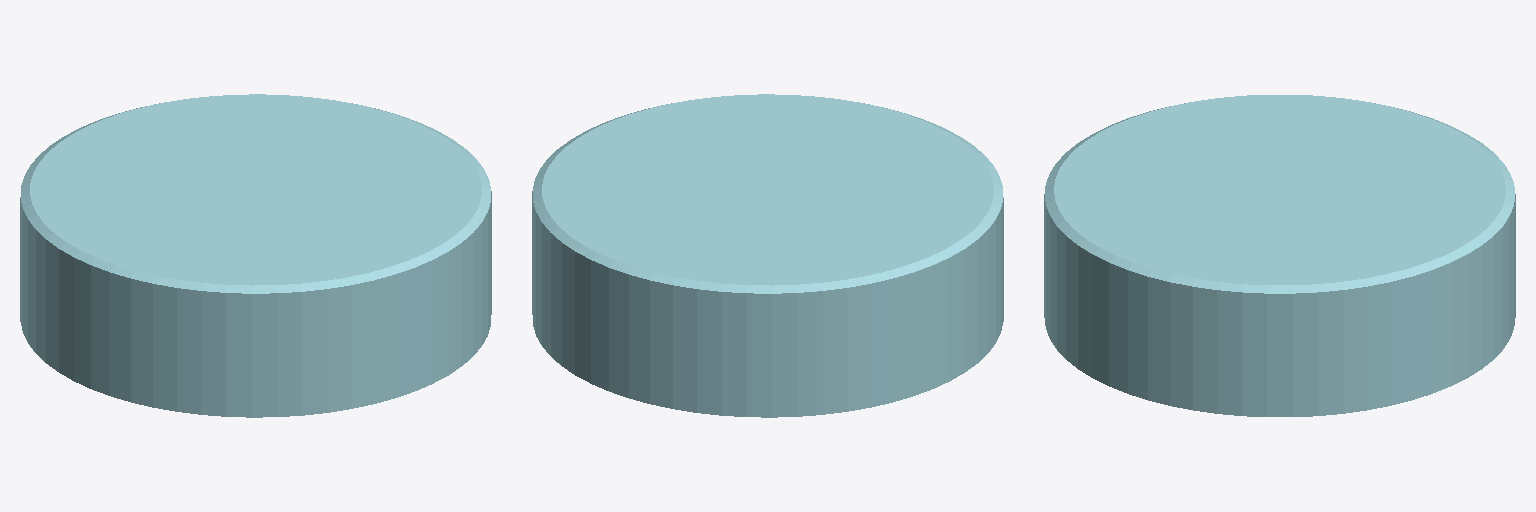
URDF robot description (objects):
<?xml  version="1.0"?>
<robot name ="objects"> 
    <!-- Author: [author]; e-mail:[email redacted]. The urdf file was develped in tongji university.-->

    <!--create  color params-->
    <material name ="LightGrey">
        <color rgba="0.7 0.7 0.7 1.0"/>
    </material>

    <material name ="White">
        <color rgba="1 1 1 1.0"/>
    </material>

    <material name ="Green">
        <color rgba="0.1 0. 1.0 1.0"/>
    </material>

    <material name ="Yellow">
        <color rgba="1. 1. 0. 1.0"/>
    </material>

    <material name ="Orange">
        <color rgba="1. 0.38 0. 1.0"/>
    </material>

    <material name ="Blue">
        <color rgba="0.69 0.87 0.9 1.0"/>
    </material>

    <mass name ="table_mass">
        <mass value="1.0"/>
    </mass>

    <mass name ="cylander_mass">
        <mass value="2.0"/>
    </mass>



    <link  name ="World"/>

    <joint name="cylinder1_to_world" type="floating">
        <parent link="World"/>
        <child link="cylinder1"/>
        <origin xyz="0. 0. 0." rpy="0.0 0.0 0.0"/>
    </joint>

    <link name = "cylinder1">
        <contact>
            <lateral_friction value="0.05"/>
            <rolling_friction value="0.0"/>
            <contact_erp value="1.0"/>
        </contact>
        <visual>
            <origin  xyz="0.0 0.0 0.0" rpy="0.0 0.0 0.0"/>
            <geometry>
                <mesh filename = "meshes/cylinder_2.dae"/>
            </geometry >
            <material name ="Blue"/>
        </visual>
        <collision>
            <origin xyz="0.0 0.0 0.0" rpy="0.0 0.0 0.0"/>
            <geometry>
                <mesh filename ="meshes/cylinder_2.dae"/>
            </geometry>
        </collision>
        <inertial>
            <mass value = "0.5"/>
            <inertia ixx="1" ixy="0.0" ixz="0.0" iyy="1" iyz="0.0" izz="1"/>
        </inertial>
    </link>
</robot>

--- Render facts (derived) ---
Views: 3 orthographic renders of the robot side by side, from view 1: azimuth 30°, elevation 25°; view 2: azimuth 150°, elevation 25°; view 3: azimuth 270°, elevation 25°.
Model objects with 2 links and 1 joints (1 floating), rooted at World, posed every joint at zero.
Links seen in each view (by area): view 1: cylinder1; view 2: cylinder1; view 3: cylinder1.
Boxes of the visible links, <box> form: cylinder1: <box>20,94,491,417</box>; cylinder1: <box>532,94,1003,417</box>; cylinder1: <box>1044,95,1515,416</box>.
Bounding box of the posed robot: 0.0999 × 0.1 × 0.03 m (x, y, z).
Meshes: 1 distinct files referenced, 1 mesh visuals loaded (1 Collada DAE).